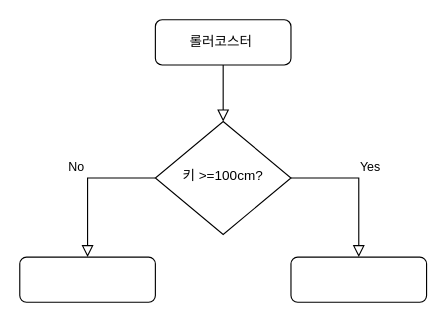
Image size: 446x322. Some labels were removed from this diagram. The centre of each missing label's shape, as x and y in pixels:
"탑승 가능" goes at point (358, 279).
"탑승 불가" goes at point (87, 279).
